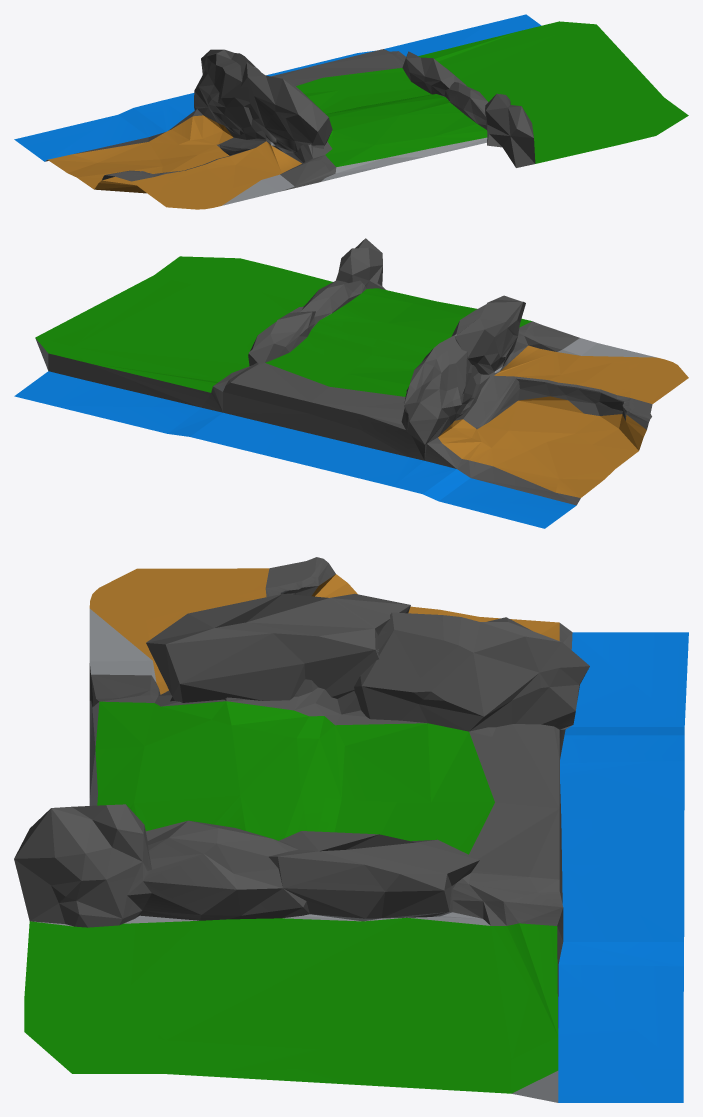
Rendered from WIL_FirstLevel_BaseDone_1.fbx.
3 renders of one model, top to bottom at view 1: azimuth 30°, elevation 25°; view 2: azimuth 150°, elevation 25°; view 3: azimuth 270°, elevation 25°, orthographic. The views are drawn at different scales.
Parts seen in each view (by area): view 1: Landscape; view 2: Landscape; view 3: Landscape.
Boxes of the visible parts, x1,y1,x2,y2 form: Landscape: [14, 14, 688, 209]; Landscape: [14, 238, 688, 528]; Landscape: [14, 557, 688, 1102].
Bounding box in the file's own units: 66301 × 11633 × 37706.
